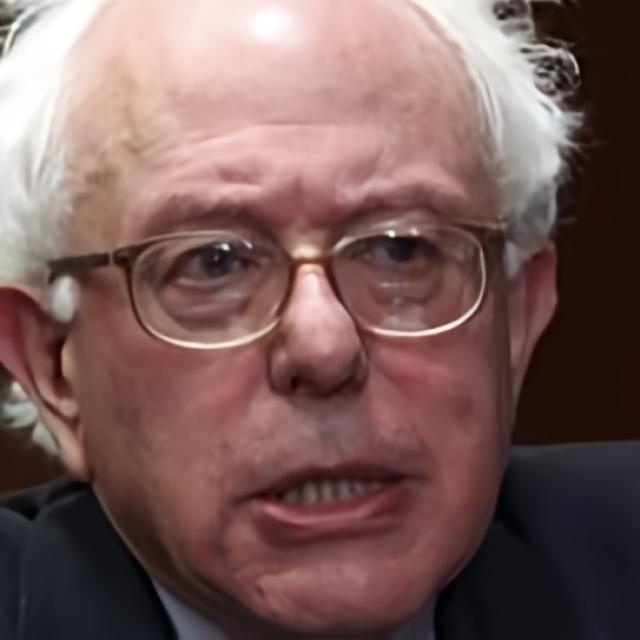anger: (92, 61, 513, 633)
